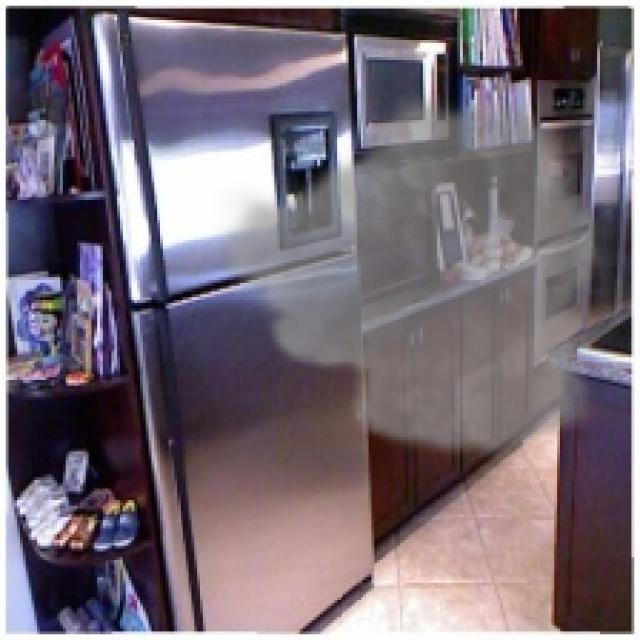smoke: (211, 86, 606, 463)
